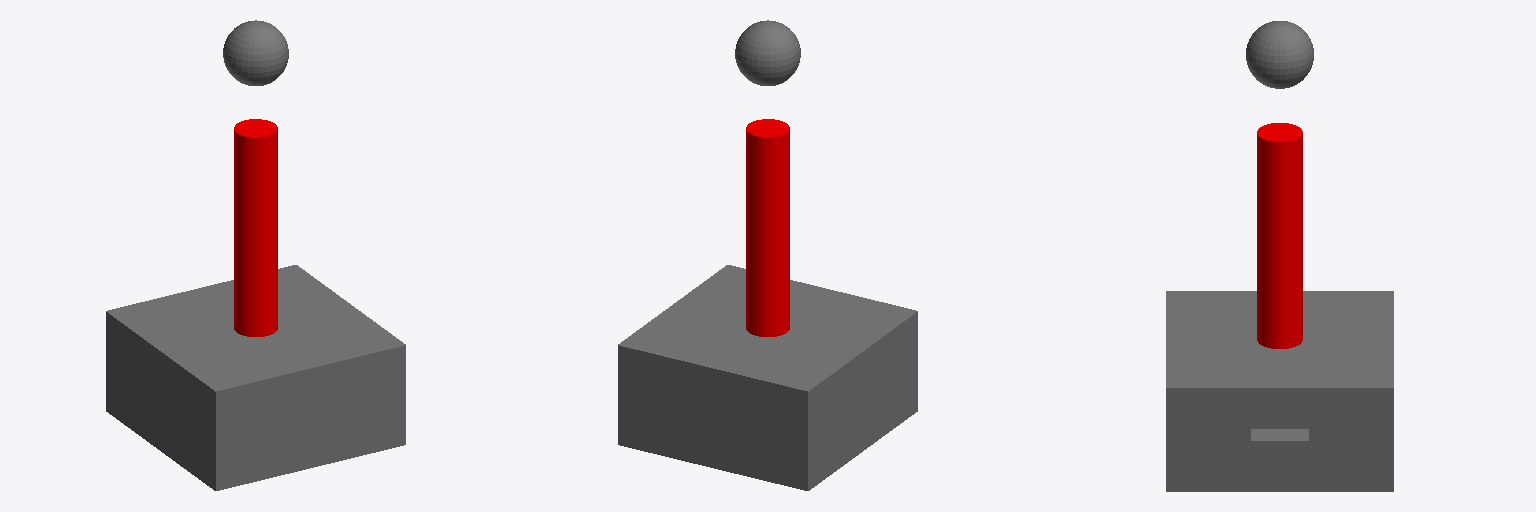
URDF robot description (test_robot):
<?xml version="1.0"?>
<robot name="test_robot">
  <material name="gray">
    <color rgba="0.5 0.5 0.5 1.0"/>
  </material>
  <material name="red">
    <color rgba="1.0 0.0 0.0 1.0"/>
  </material>

  <link name="base_link">
    <inertial>
      <origin xyz="0 0 0" rpy="0 0 0"/>
      <mass value="1.0"/>
      <inertia ixx="0.01" ixy="0" ixz="0" iyy="0.01" iyz="0" izz="0.01"/>
    </inertial>
    <visual>
      <origin xyz="0 0 0" rpy="0 0 0"/>
      <geometry>
        <box size="0.2 0.2 0.1"/>
      </geometry>
      <material name="gray"/>
    </visual>
    <collision>
      <origin xyz="0 0 0" rpy="0 0 0"/>
      <geometry>
        <box size="0.2 0.2 0.1"/>
      </geometry>
    </collision>
  </link>

  <link name="link1">
    <inertial>
      <origin xyz="0 0 0.1" rpy="0 0 0"/>
      <mass value="0.5"/>
      <inertia ixx="0.001" ixy="0" ixz="0" iyy="0.001" iyz="0" izz="0.001"/>
    </inertial>
    <visual>
      <origin xyz="0 0 0.1" rpy="0 0 0"/>
      <geometry>
        <cylinder radius="0.02" length="0.2"/>
      </geometry>
      <material name="red"/>
    </visual>
    <collision>
      <origin xyz="0 0 0.1" rpy="0 0 0"/>
      <geometry>
        <cylinder radius="0.02" length="0.2"/>
      </geometry>
    </collision>
  </link>

  <link name="link2">
    <inertial>
      <origin xyz="0 0 0.075" rpy="0 0 0"/>
      <mass value="0.3"/>
      <inertia ixx="0.0005" ixy="0" ixz="0" iyy="0.0005" iyz="0" izz="0.0005"/>
    </inertial>
    <visual>
      <origin xyz="0 0 0.075" rpy="0 0 0"/>
      <geometry>
        <sphere radius="0.03"/>
      </geometry>
      <material name="gray"/>
    </visual>
  </link>

  <link name="fixed_part">
    <inertial>
      <origin xyz="0 0 0" rpy="0 0 0"/>
      <mass value="0.1"/>
      <inertia ixx="0.0001" ixy="0" ixz="0" iyy="0.0001" iyz="0" izz="0.0001"/>
    </inertial>
    <visual>
      <origin xyz="0 0 0" rpy="0 0 0"/>
      <geometry>
        <box size="0.05 0.05 0.02"/>
      </geometry>
      <material name="gray"/>
    </visual>
  </link>

  <joint name="joint1" type="revolute">
    <parent link="base_link"/>
    <child link="link1"/>
    <origin xyz="0 0 0.05" rpy="0 0 0"/>
    <axis xyz="0 1 0"/>
    <limit lower="-1.57" upper="1.57" effort="10.0" velocity="5.0"/>
  </joint>

  <joint name="joint2" type="revolute">
    <parent link="link1"/>
    <child link="link2"/>
    <origin xyz="0 0 0.2" rpy="0 0 0"/>
    <axis xyz="0 1 0"/>
    <limit lower="-2.0" upper="2.0" effort="5.0" velocity="3.0"/>
  </joint>

  <joint name="fixed_joint" type="fixed">
    <parent link="base_link"/>
    <child link="fixed_part"/>
    <origin xyz="0.1 0 0" rpy="0 0 0"/>
  </joint>
</robot>

--- Render facts (derived) ---
3 views of the same robot in one strip: view 1: azimuth 30°, elevation 25°; view 2: azimuth 150°, elevation 25°; view 3: azimuth 270°, elevation 25° (orthographic).
Model test_robot with 4 links and 3 joints (2 revolute, 1 fixed), rooted at base_link, posed all joints at 0.
Visible links, largest first — view 1: base_link, link1, link2; view 2: base_link, link1, link2; view 3: base_link, link1, link2, fixed_part.
Link boxes in pixels (x1=…): base_link: x1=106, y1=265, x2=405, y2=490; link1: x1=234, y1=119, x2=277, y2=336; link2: x1=223, y1=20, x2=288, y2=85; base_link: x1=618, y1=265, x2=917, y2=490; link1: x1=746, y1=119, x2=789, y2=336; link2: x1=735, y1=20, x2=800, y2=85; base_link: x1=1166, y1=291, x2=1393, y2=491; link1: x1=1257, y1=123, x2=1302, y2=348; link2: x1=1246, y1=21, x2=1313, y2=88; fixed_part: x1=1251, y1=429, x2=1308, y2=461.
Size in the robot's own frame: 0.225 by 0.2 by 0.405 metres.
Geometry: primitives only (box / cylinder / sphere), no mesh files.
